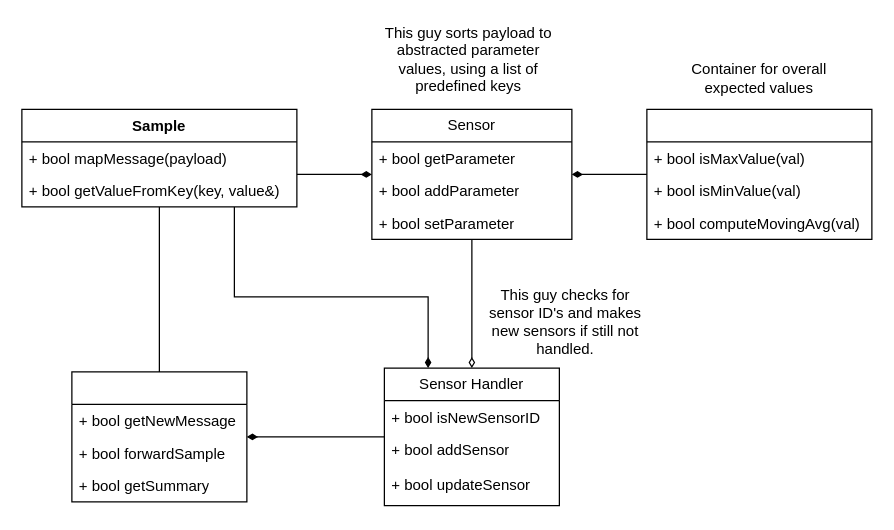
Image size: 894x530. Some labels were removed from this diagram. Here are the shapes that lost their labels. From the top down, the box of each, then its label:
(646, 108, 872, 239): Tracked Parameter
(71, 371, 247, 502): Receiver
